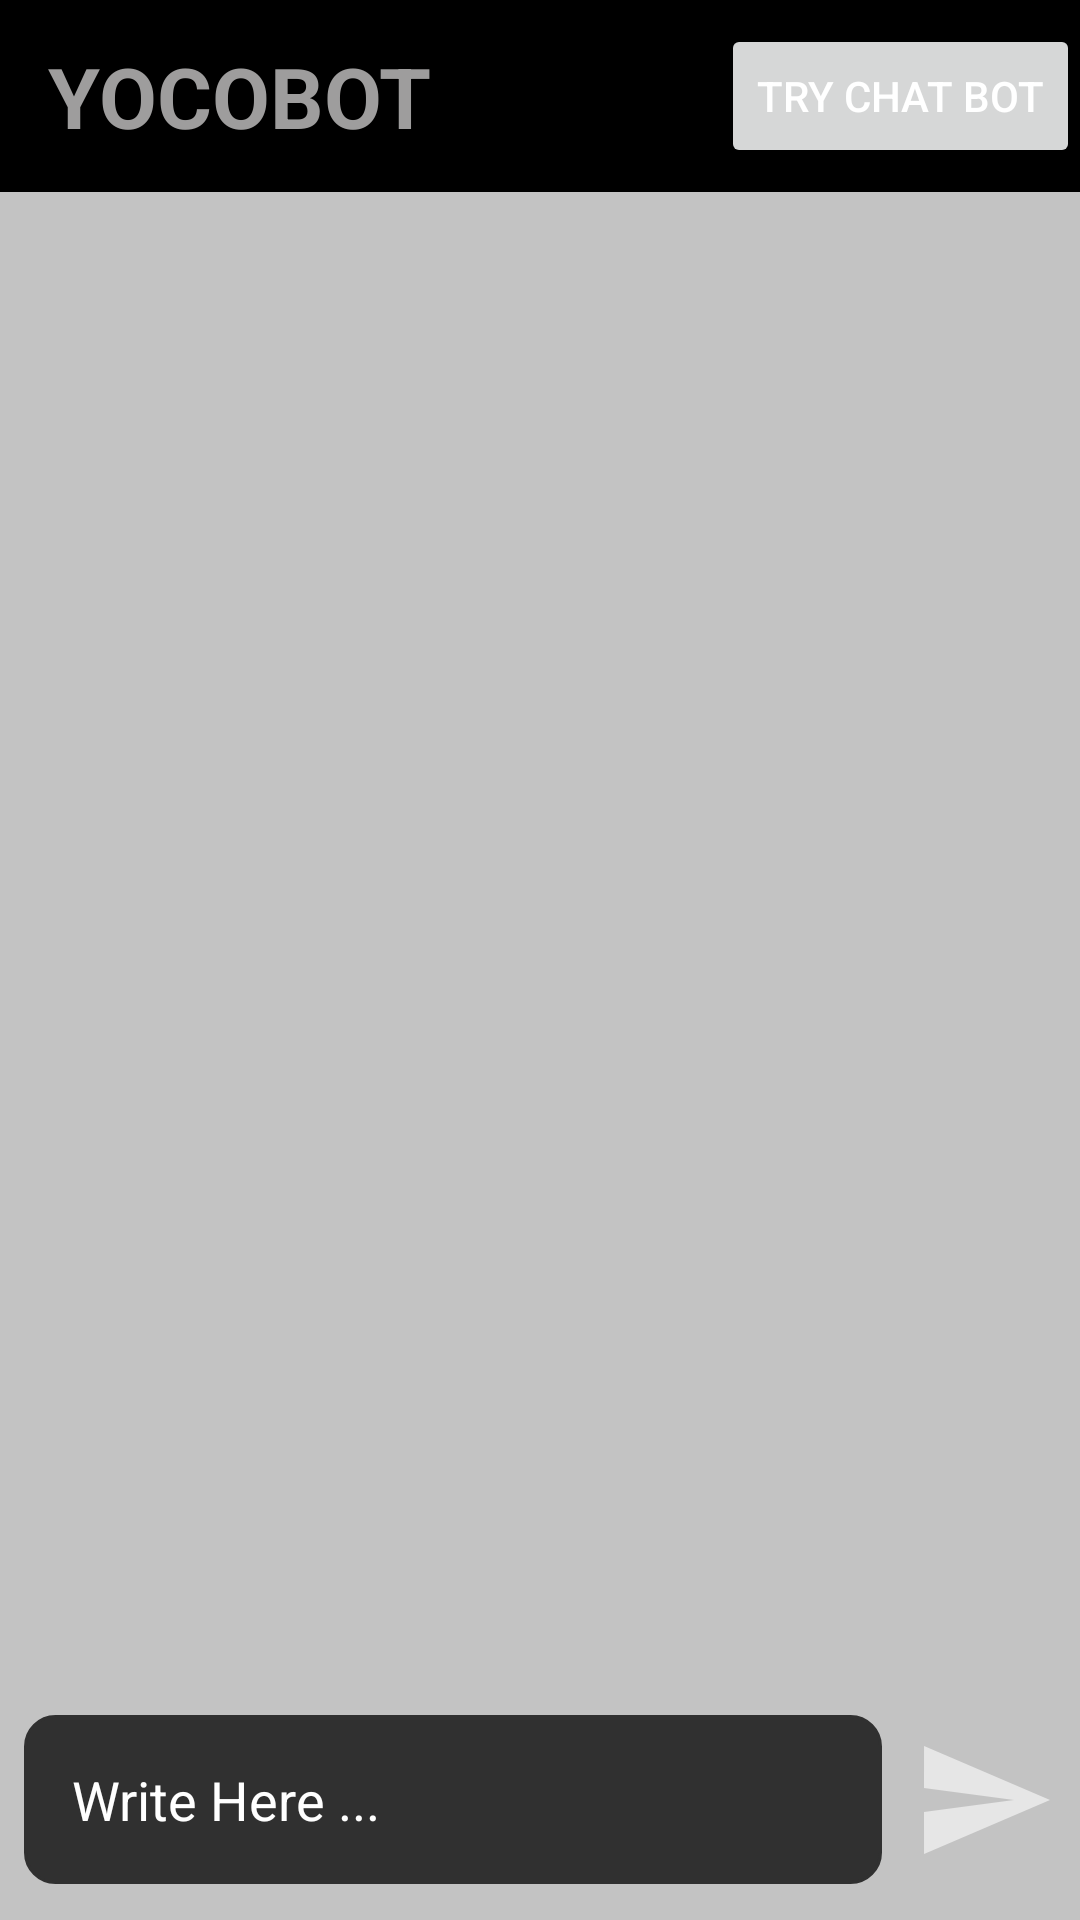

Named icons in this screenshot (1080×1920) and their centers, point (x, y):
send: point (986, 1800)
